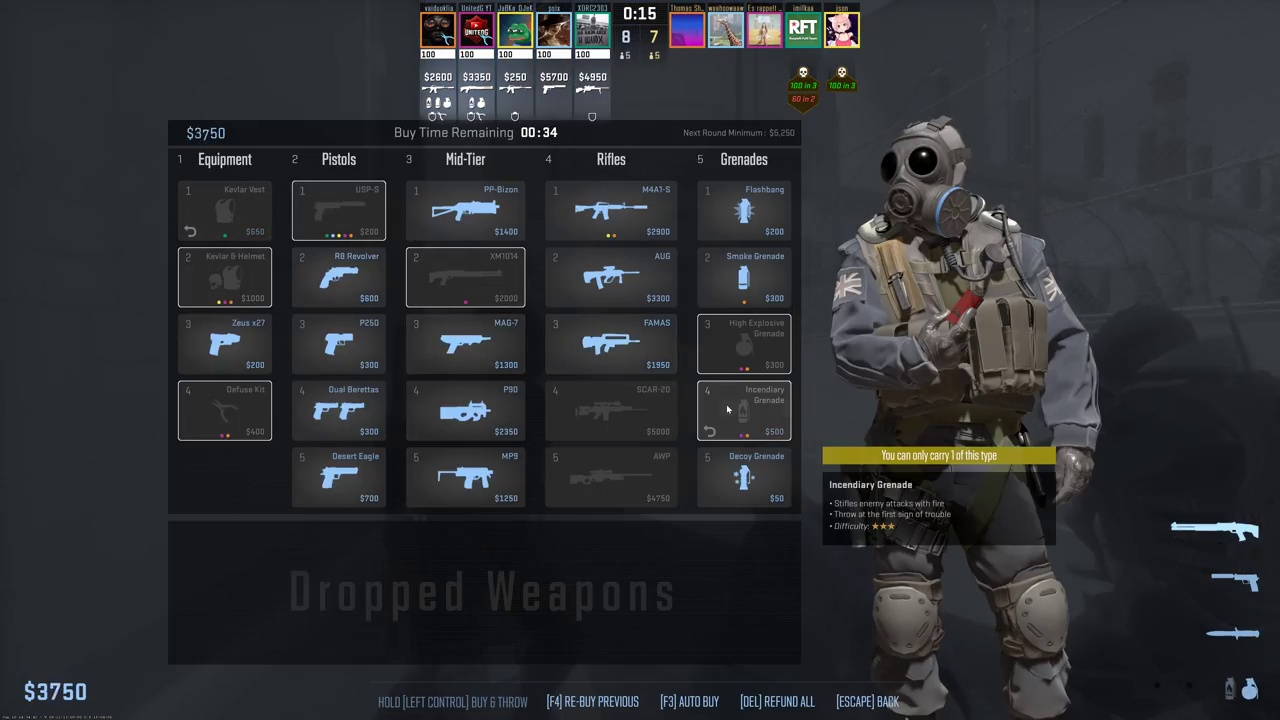CT: (855, 127, 1075, 708)
